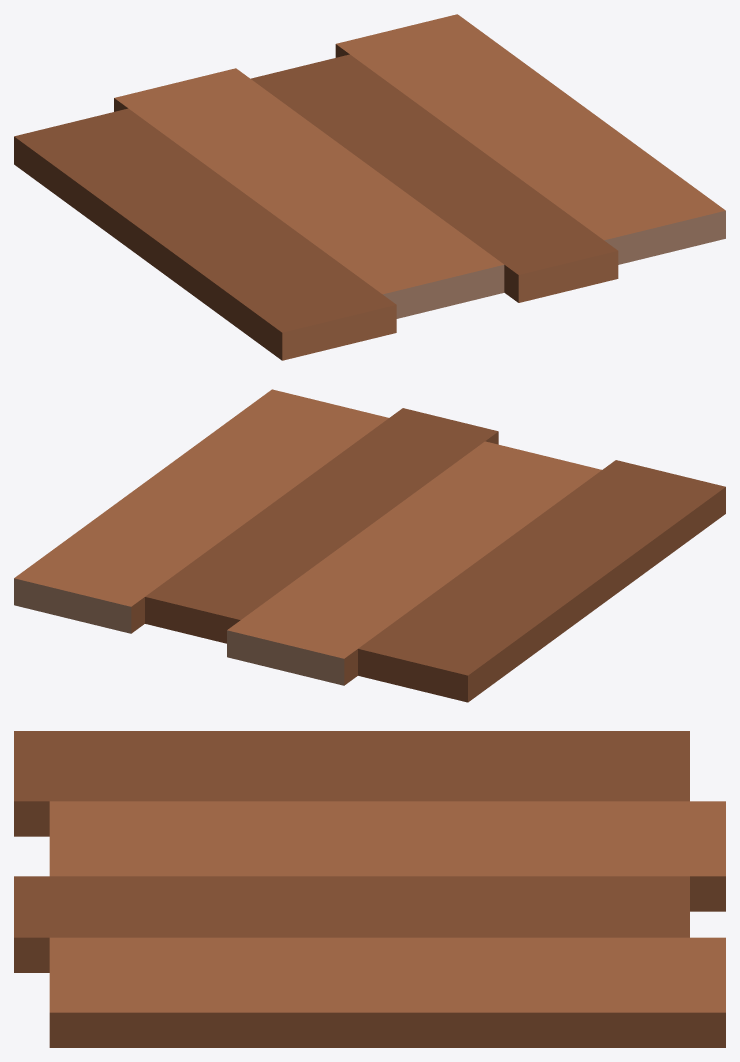
File: TB_Prop_WoodenPad.FBX
The picture shows the model from 3 angles, top to bottom: view 1: azimuth 30°, elevation 25°; view 2: azimuth 150°, elevation 25°; view 3: azimuth 270°, elevation 25°; orthographic projection. The views are drawn at different scales.
Parts seen in each view (by area): view 1: TB_Prop_WoodenPad; view 2: TB_Prop_WoodenPad; view 3: TB_Prop_WoodenPad.
Part boxes in pixels (<box>): TB_Prop_WoodenPad: <box>14,14,725,360</box>; TB_Prop_WoodenPad: <box>14,389,725,702</box>; TB_Prop_WoodenPad: <box>14,731,725,1047</box>.
Bounding box in the file's own units: 2.06 × 0.1207 × 2.2.
